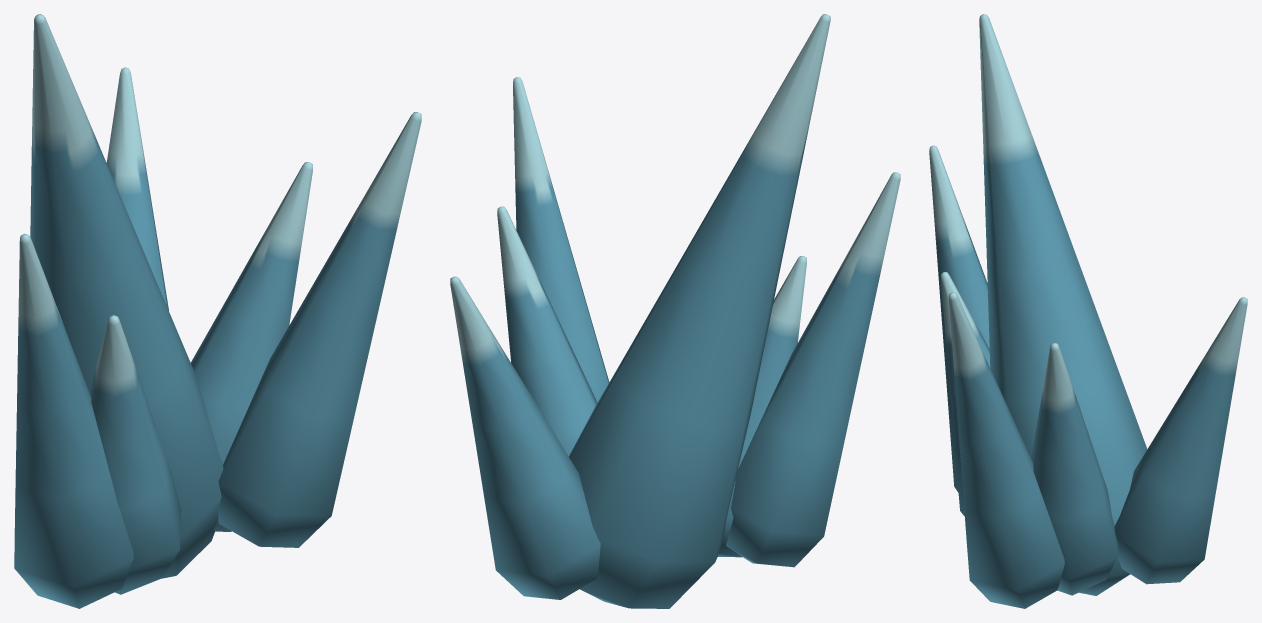
The model's file is prop_crystal2_d221.glb.
3 views of the same model, side by side, from view 1: azimuth 30°, elevation 25°; view 2: azimuth 150°, elevation 25°; view 3: azimuth 270°, elevation 25° (orthographic). The views are drawn at different scales.
Parts seen in each view (by area): view 1: prop_crystal2_d221; view 2: prop_crystal2_d221; view 3: prop_crystal2_d221.
Part boxes in pixels (left/top/right/bottom): prop_crystal2_d221: left=14, top=14, right=421, bottom=608; prop_crystal2_d221: left=450, top=14, right=900, bottom=608; prop_crystal2_d221: left=929, top=14, right=1247, bottom=608.
Size of the model in its own units: 0.6699 by 0.9845 by 0.5536.
1 material, 1 textured.
